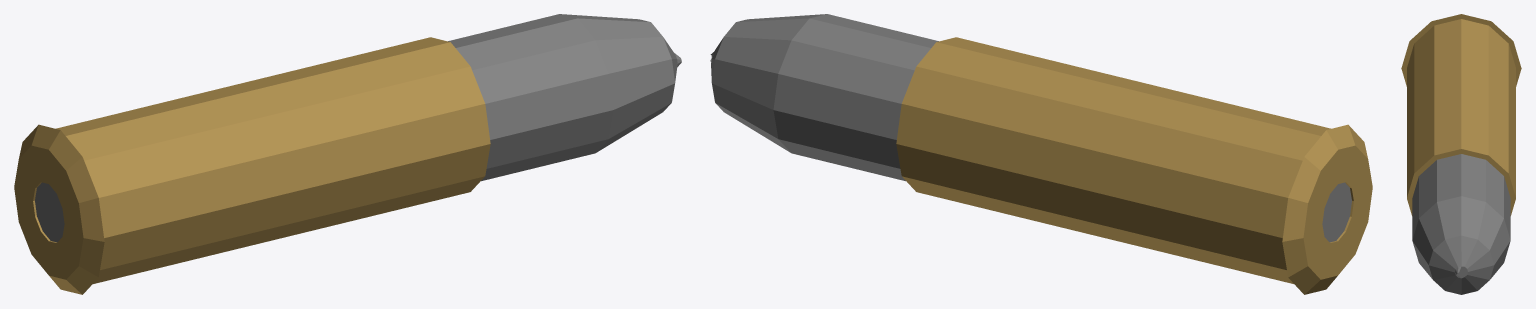
The model's file is Artillery Shell.fbx.
3 views of the same model, side by side, from view 1: azimuth 30°, elevation 25°; view 2: azimuth 150°, elevation 25°; view 3: azimuth 270°, elevation 25° (orthographic). The views are drawn at different scales.
Visible parts, largest first — view 1: Artillery Shell; view 2: Artillery Shell; view 3: Artillery Shell.
Boxes of the visible parts, <box> form: Artillery Shell: <box>14,14,681,294</box>; Artillery Shell: <box>710,14,1372,294</box>; Artillery Shell: <box>1401,14,1521,294</box>.
Bounding box in the file's own units: 314 × 76.03 × 76.03.
